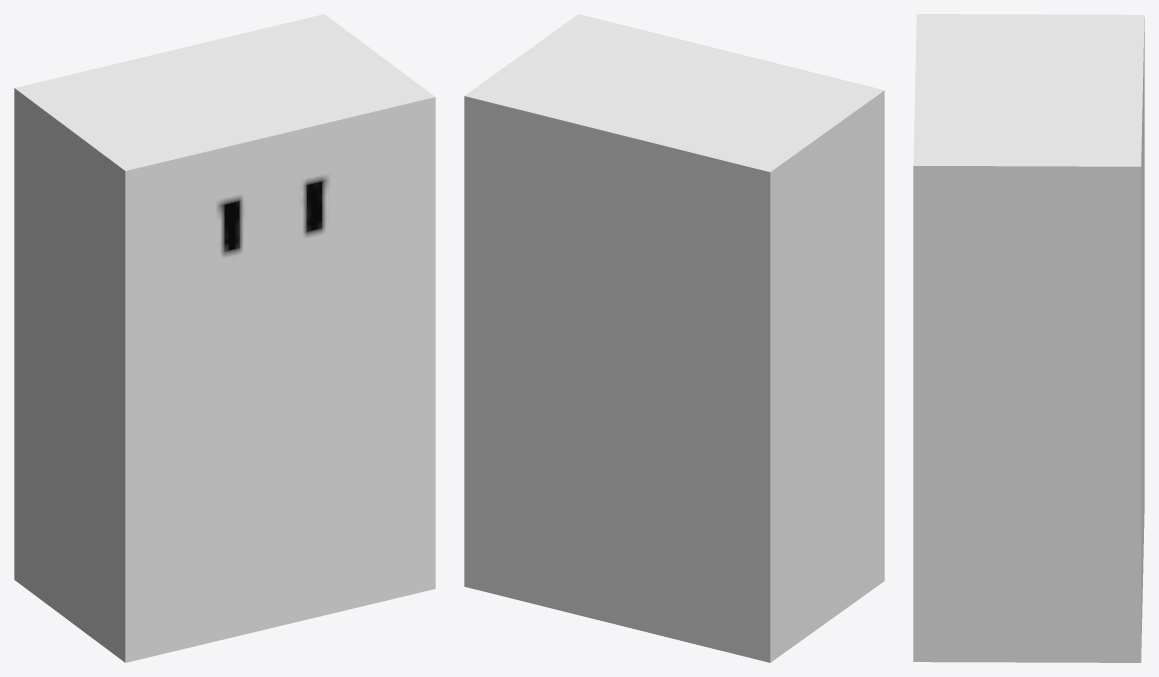
The model's file is char_white.glb.
3 views of the same model, side by side, from view 1: azimuth 30°, elevation 25°; view 2: azimuth 150°, elevation 25°; view 3: azimuth 270°, elevation 25° (orthographic).
Visible parts, largest first — view 1: Cube; view 2: Cube; view 3: Cube.
Part boxes in pixels (x1=…): Cube: x1=14, y1=14, x2=435, y2=662; Cube: x1=464, y1=14, x2=884, y2=662; Cube: x1=913, y1=14, x2=1144, y2=662.
Size of the model in its own units: 2.01 by 3.05 by 1.29.
1 material, 1 textured.
